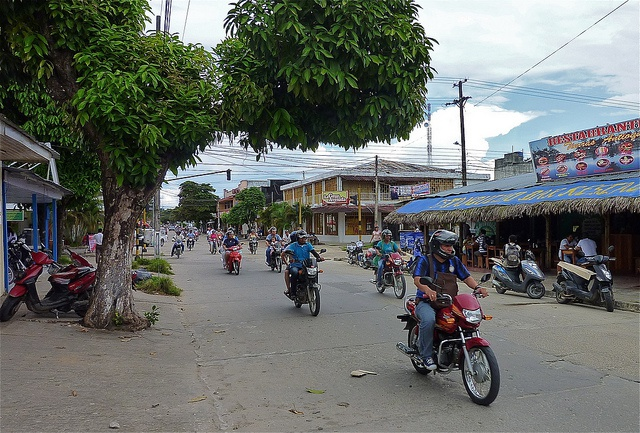non-vehicle: (393, 273, 500, 407), (0, 234, 99, 318), (552, 246, 616, 311), (285, 248, 326, 316), (489, 255, 549, 297), (363, 245, 406, 300), (263, 241, 282, 274), (345, 239, 365, 267), (226, 245, 241, 275), (171, 237, 185, 258), (247, 237, 260, 254), (208, 237, 218, 254), (186, 236, 194, 251)
